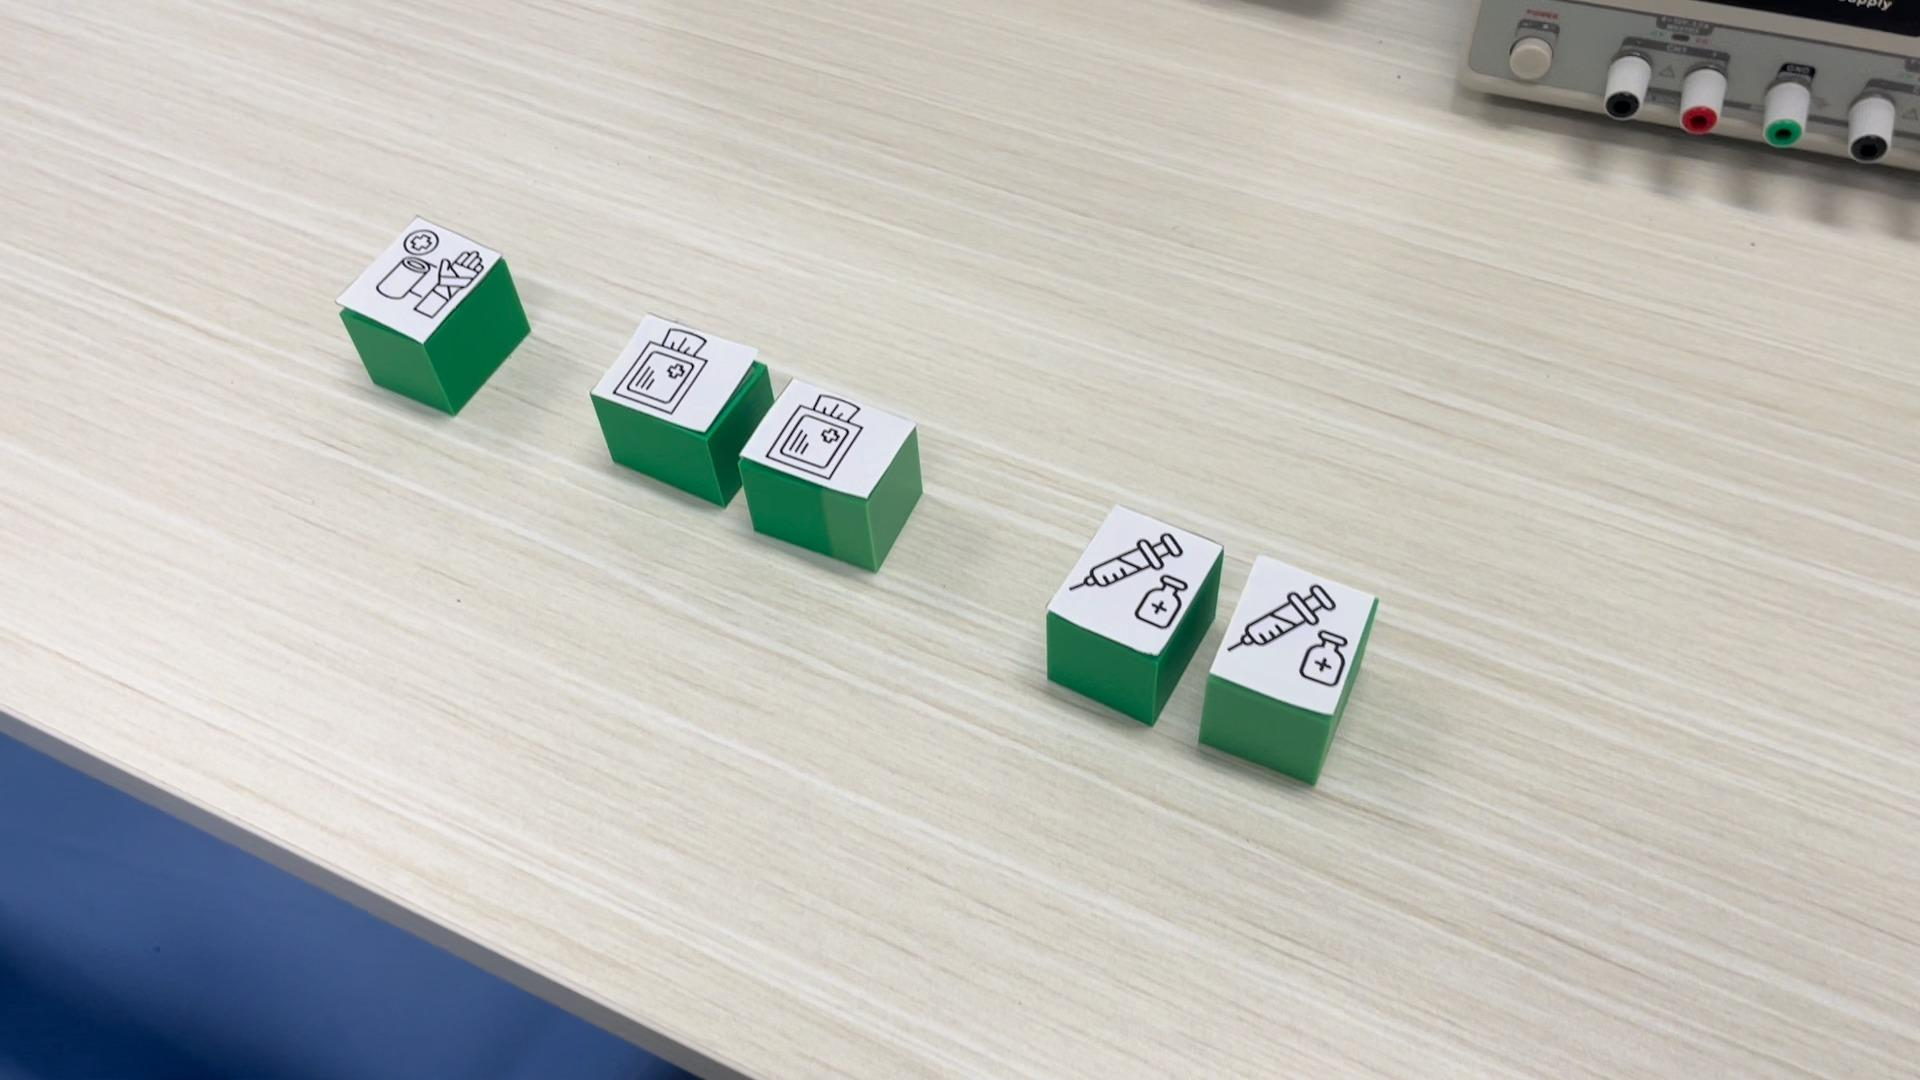Bandages: (335, 215, 531, 415)
Gauze: (738, 375, 920, 572), (589, 311, 758, 505)
antiseptic cream: (1200, 551, 1386, 787), (1040, 502, 1225, 727)
